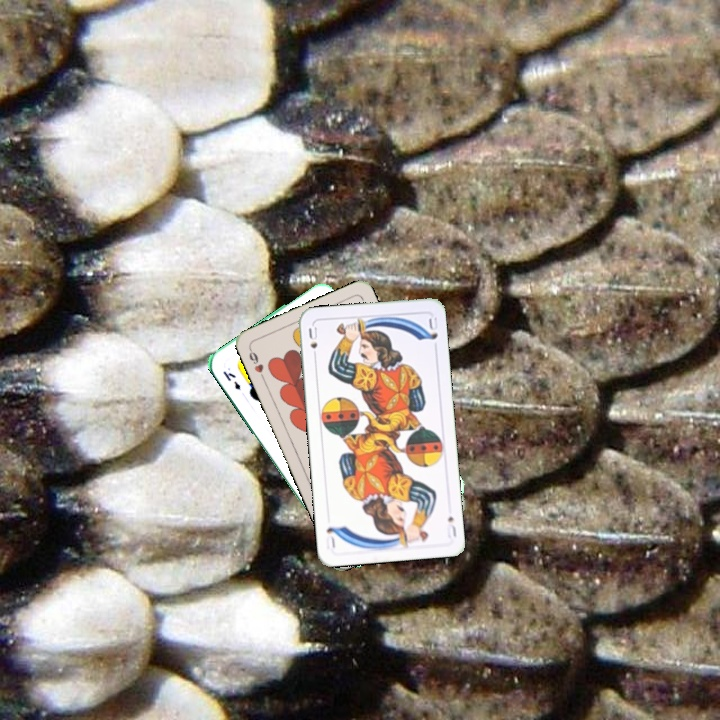EK: (219, 367, 243, 392)
H9: (245, 344, 267, 383)
SU: (305, 323, 320, 362), (443, 512, 459, 540)
